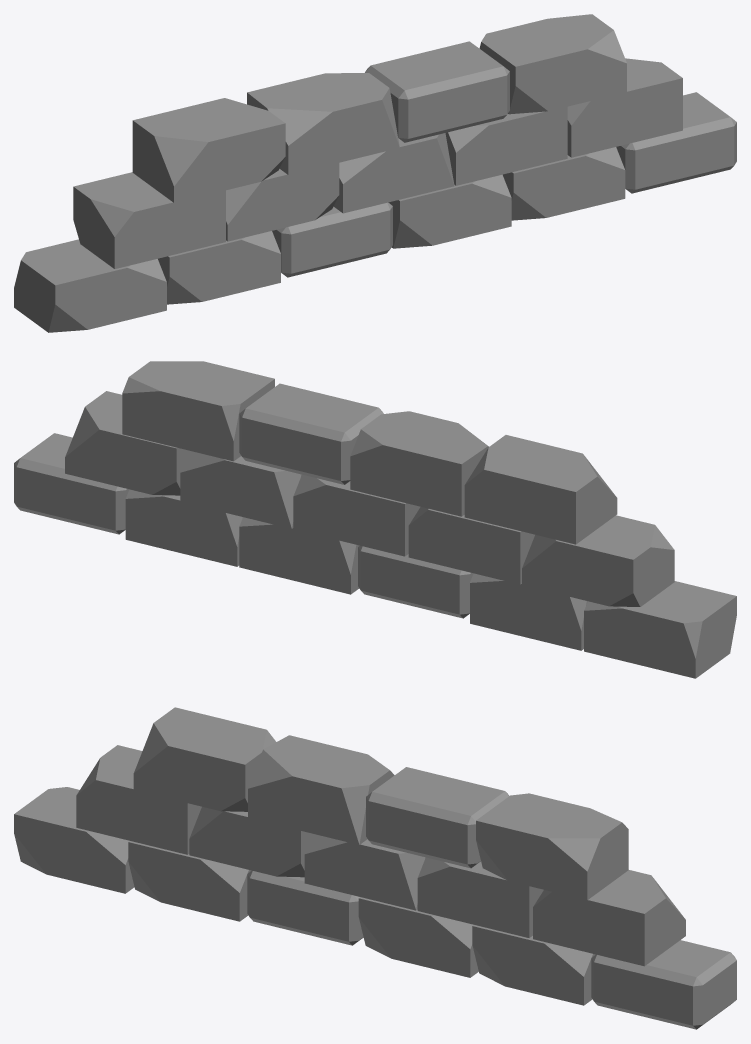
Rendered from BrickWall_02.fbx.
3 renders of one model, top to bottom at view 1: azimuth 30°, elevation 25°; view 2: azimuth 150°, elevation 25°; view 3: azimuth 330°, elevation 25°, orthographic.
Visible parts, largest first — view 1: BrickWall_02; view 2: BrickWall_02; view 3: BrickWall_02.
Part boxes in pixels (x1,y1,x2,y2): BrickWall_02: (14, 14, 736, 332); BrickWall_02: (14, 361, 736, 678); BrickWall_02: (14, 707, 736, 1029).
Bounding box in the file's own units: 539 × 120 × 58.26.
